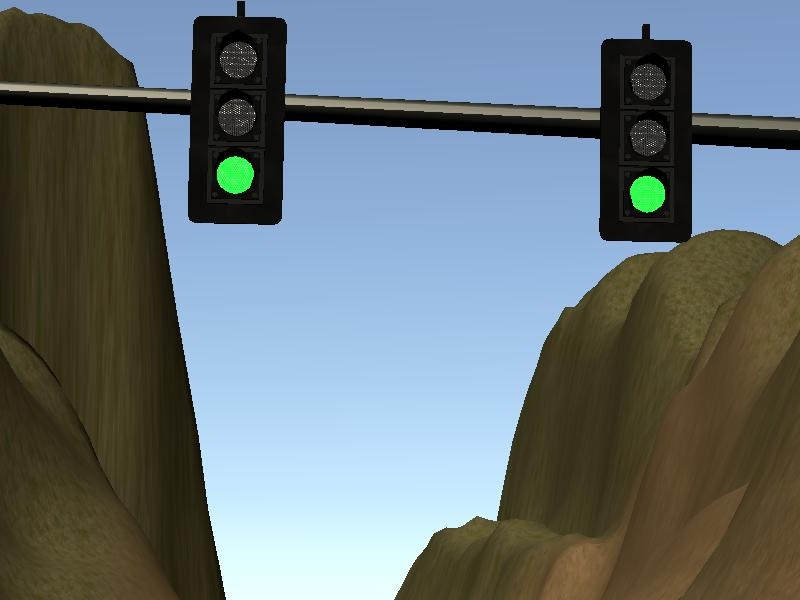green: (597, 22, 703, 246), (188, 15, 283, 236)
